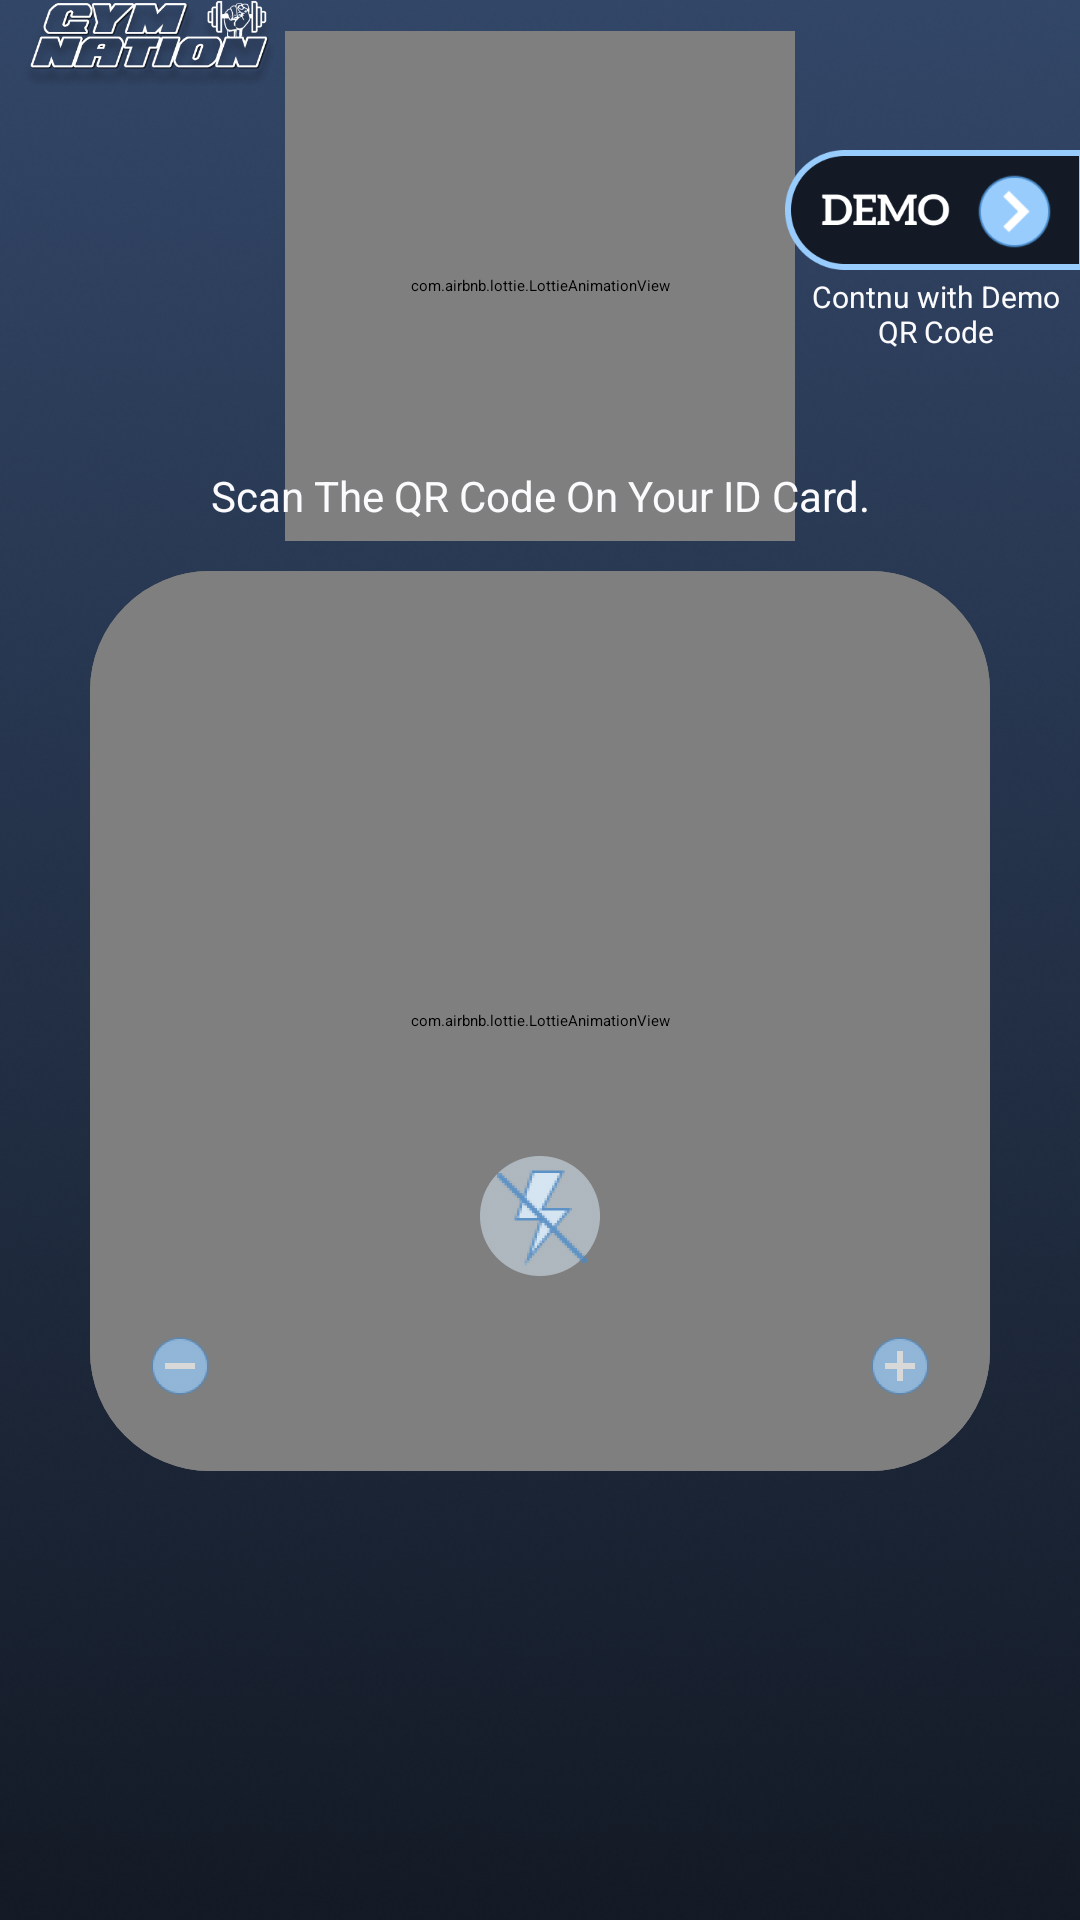

Icon bounding boxes for this 1080x1920 phone screenshot, format (x1, y1, x2, y2):
fash off: (480, 1156, 600, 1276)
scan zoom: (151, 1337, 209, 1395)
scan zoom plus: (871, 1337, 929, 1395)
